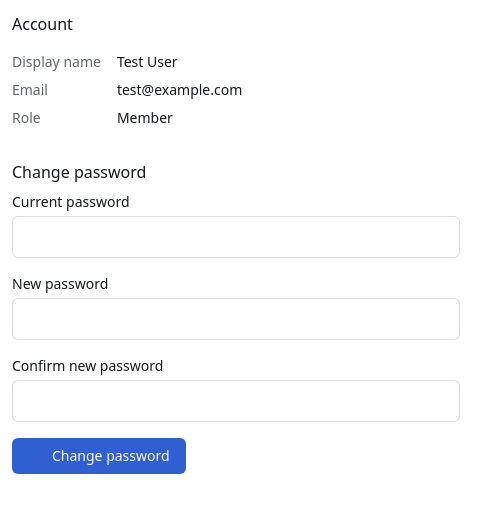
Test: maps a 401 to the current-password field
The width and height of the screenshot is (481, 511).
Check: the text "Test User" is shown, box [117, 52, 178, 71]
Type "old-password-123" into the password field labelled "Current password" at (236, 237), box [12, 216, 460, 258]
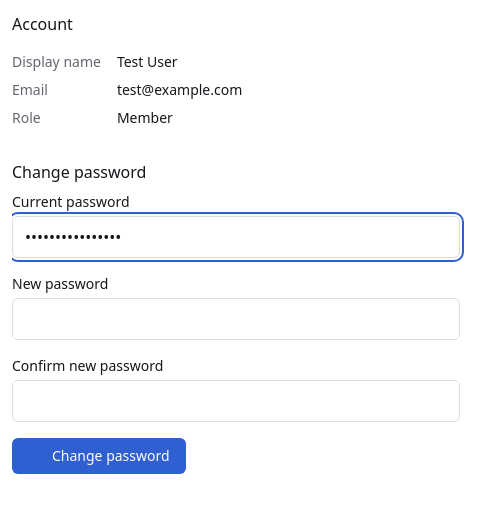
Type "new-password-456" into the password field labelled "New password" at (236, 319), box [12, 298, 460, 340]
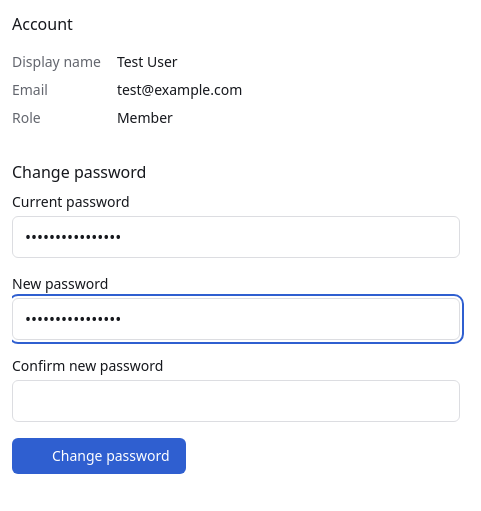
Type "new-password-456" into the password field labelled "Confirm new password" at (236, 401), box [12, 380, 460, 422]
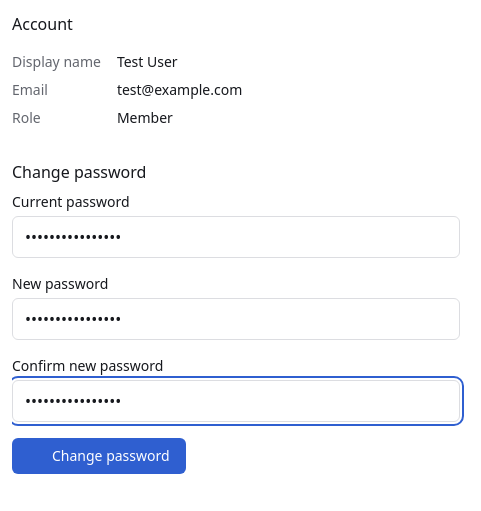
Click the button "Change password" at (99, 456), box [12, 438, 186, 474]
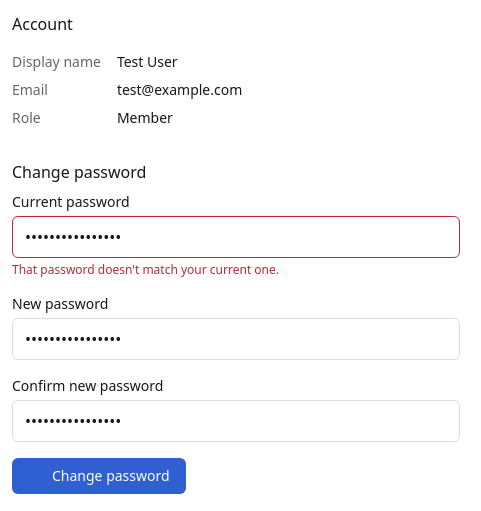
Check: the text "That password doesn't match your current one." is shown, box [12, 261, 279, 278]
